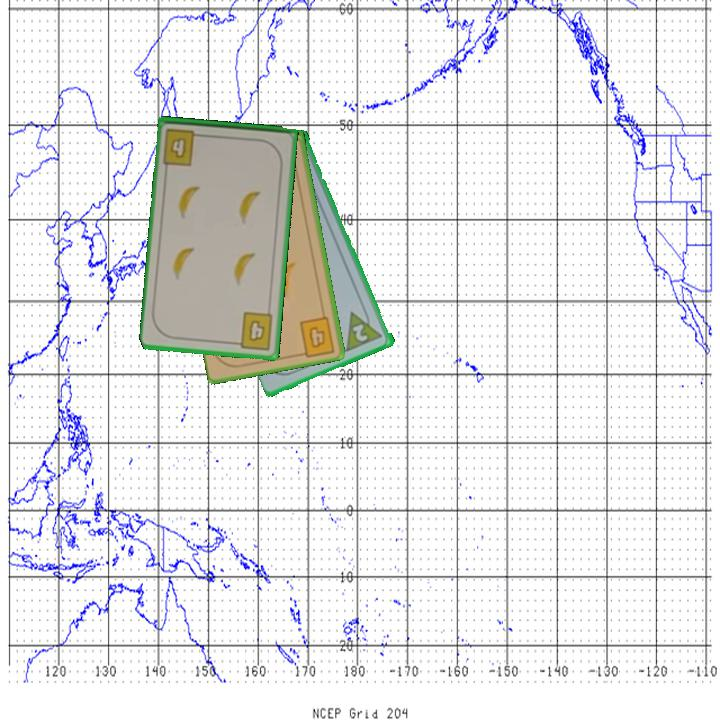2p: (349, 320, 371, 345)
4b: (230, 308, 276, 353), (295, 312, 338, 359), (159, 125, 206, 168)
